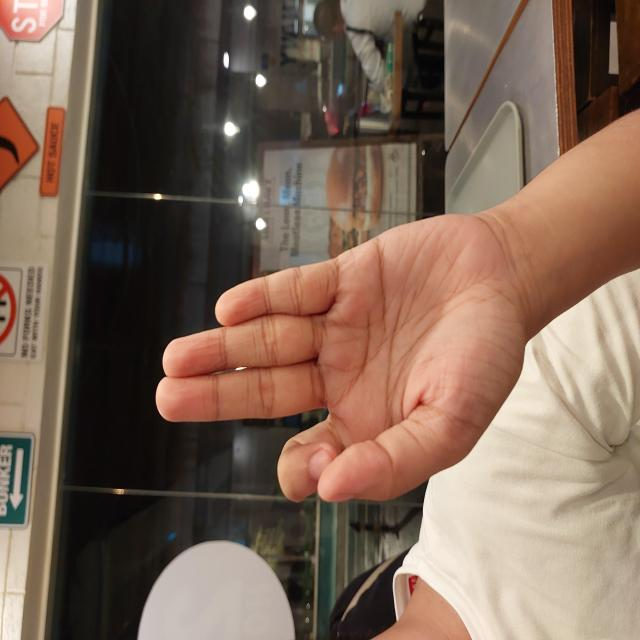F: (136, 153, 428, 527)
